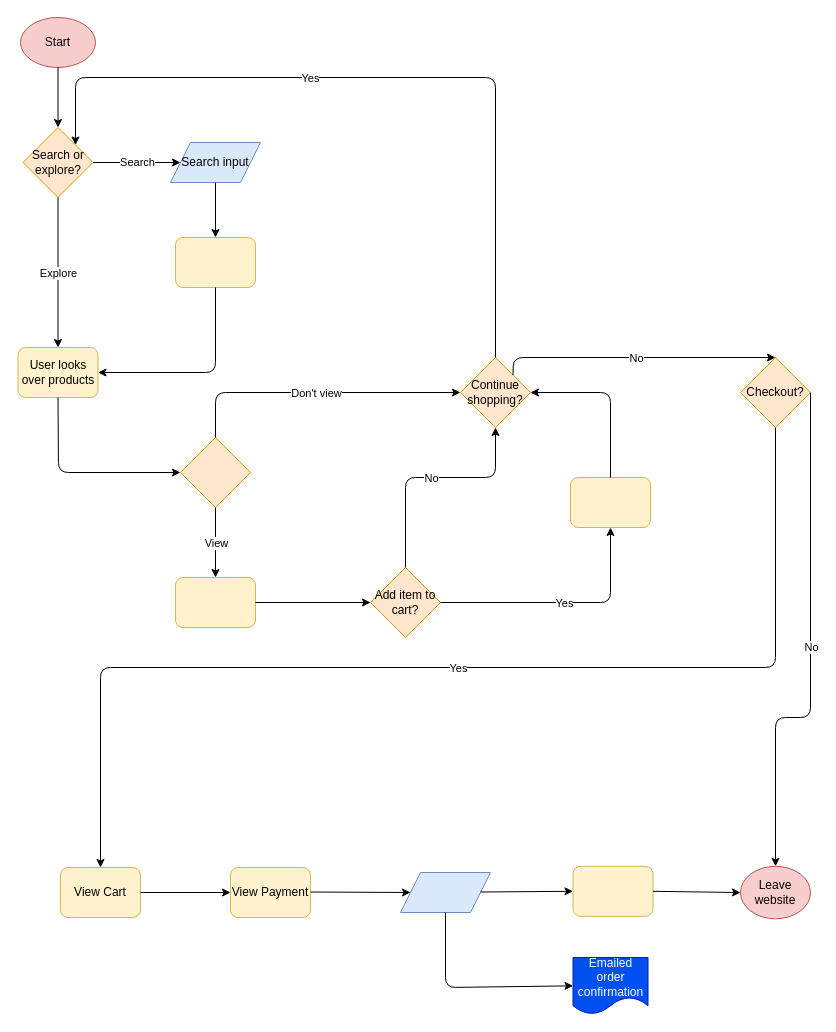
This 836x1032 diagram has some shape labels left out. Here are the shapes that lost their labels. From the top down, the centre of each, then its label:
point 215,262: Product database queried
point 215,472: View specific product?
point 610,502: Added to cart confirmation
point 215,602: Product webpage opens
point 445,892: Payment information
point 612,890: Order confirmation screen
